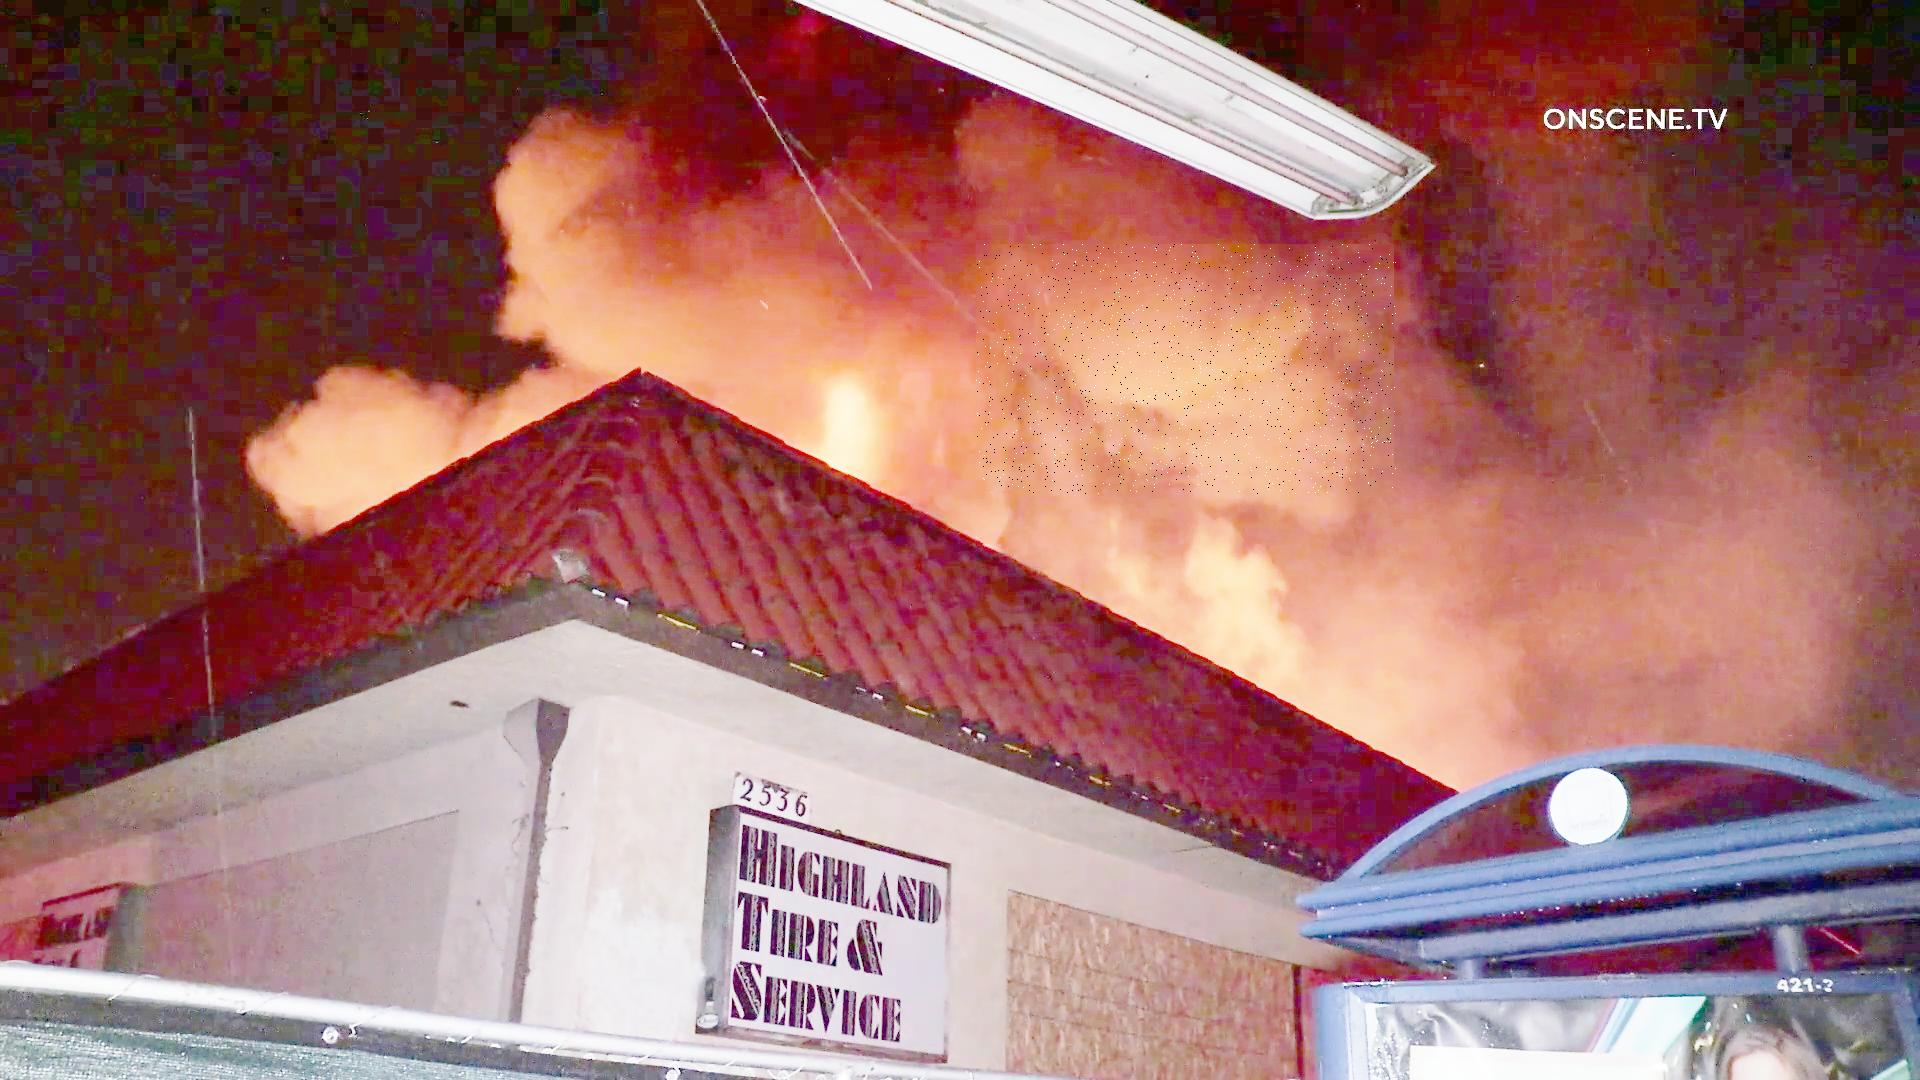smoke: (977, 245, 1396, 495)
